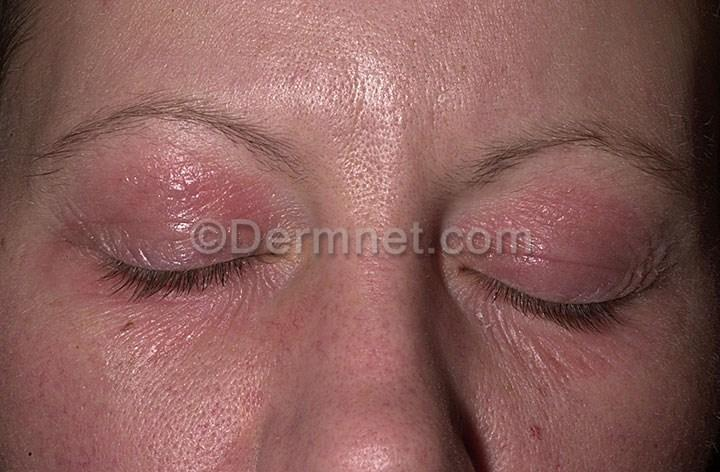Eczema: (14, 364, 135, 472), (64, 166, 297, 221), (473, 179, 682, 226), (115, 303, 238, 362), (506, 345, 619, 396)
